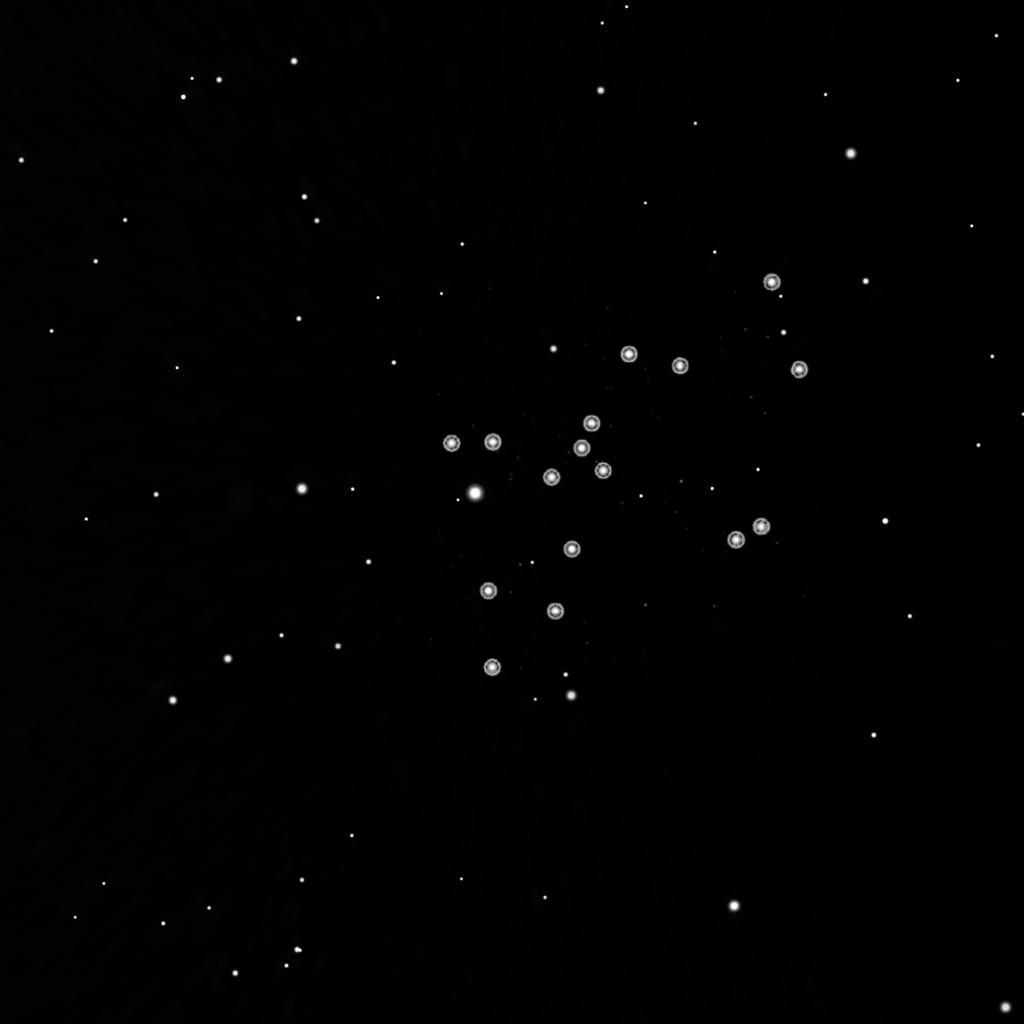canis_major: (538, 343, 689, 494)
